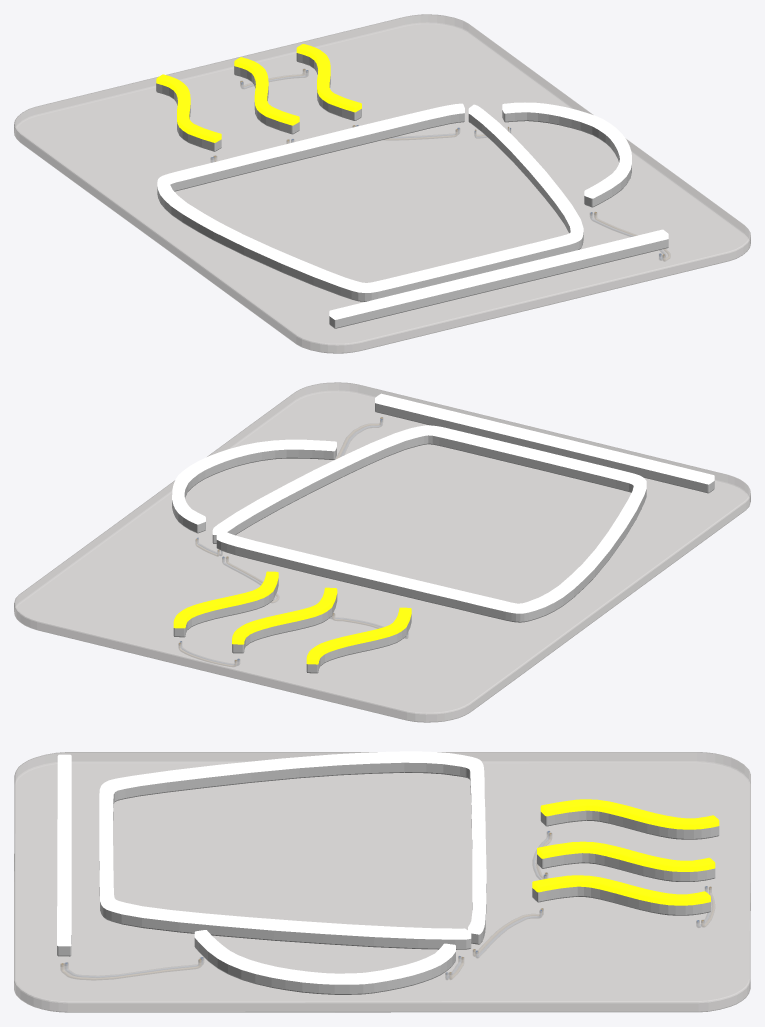
Rendered from coffee_mug.glb.
3 views of the same model, one above another, from view 1: azimuth 30°, elevation 25°; view 2: azimuth 150°, elevation 25°; view 3: azimuth 270°, elevation 25° (orthographic). The views are drawn at different scales.
Parts seen in each view (by area): view 1: Plane.012, Plane.023; view 2: Plane.012, Plane.023, Circle.029; view 3: Plane.012, Plane.023, Circle.029, Circle.030.
Boxes of the visible parts, box(x1,y1,x2,y2) form: Plane.012: box(14, 14, 750, 353); Plane.023: box(156, 44, 668, 328); Plane.012: box(14, 382, 750, 722); Plane.023: box(172, 393, 714, 673); Circle.029: box(178, 417, 382, 666); Plane.012: box(14, 752, 750, 1012); Plane.023: box(57, 751, 719, 994); Circle.029: box(60, 833, 714, 979); Circle.030: box(64, 831, 709, 979).
Bounding box in the file's own units: 1.13 × 0.0727 × 1.41.
